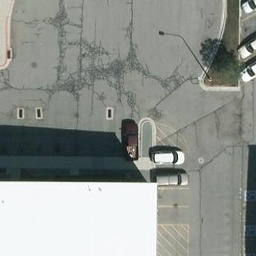car: (150, 147, 185, 164), (126, 122, 139, 159), (155, 171, 189, 185)
